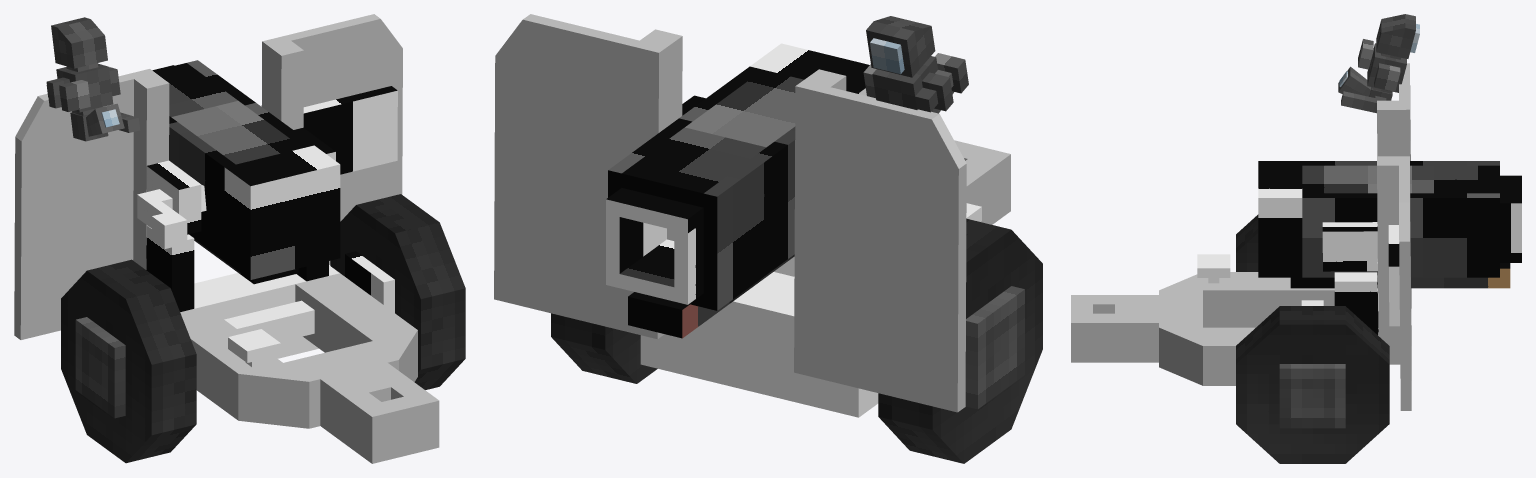
The model's file is field_howitzer.obj.
The picture shows the model from 3 angles, left to right: view 1: azimuth 30°, elevation 25°; view 2: azimuth 150°, elevation 25°; view 3: azimuth 270°, elevation 25°; orthographic projection. The views are drawn at different scales.
Parts seen in each view (by area): view 1: howizer, wheel2, gun, wheel1, howi, scope, breech, lever, vertical_drive_guida_mechanismnce, range; view 2: howizer, howi, wheel2, gun, scope, breech, wheel1, range; view 3: howizer, wheel1, howi, gun, scope, breech, wheel2, vertical_drive_guida_mechanismnce.
Boxes of the visible parts, box(x1,y1,x2,y2) form: howizer: box(14, 14, 439, 463); wheel2: box(61, 259, 196, 463); gun: box(152, 65, 340, 279); wheel1: box(330, 194, 465, 389); howi: box(153, 60, 313, 284); scope: box(46, 17, 139, 141); breech: box(171, 100, 302, 164); lever: box(137, 189, 187, 248); vertical_drive_guida_mechanismnce: box(228, 329, 280, 367); range: box(46, 80, 90, 111); howizer: box(494, 14, 1010, 417); howi: box(608, 66, 858, 338); wheel2: box(878, 218, 1042, 463); gun: box(606, 43, 869, 304); scope: box(863, 16, 953, 113); breech: box(685, 70, 803, 147); wheel1: box(551, 313, 657, 383); range: box(915, 53, 968, 112); howizer: box(1071, 63, 1411, 410); wheel1: box(1236, 306, 1389, 463); howi: box(1290, 161, 1510, 288); gun: box(1258, 161, 1521, 277); scope: box(1338, 14, 1419, 113); breech: box(1302, 165, 1411, 193); wheel2: box(1236, 214, 1258, 271); vertical_drive_guida_mechanismnce: box(1197, 254, 1230, 283).
Size of the model in its own units: 2.12 by 2.03 by 2.57.
